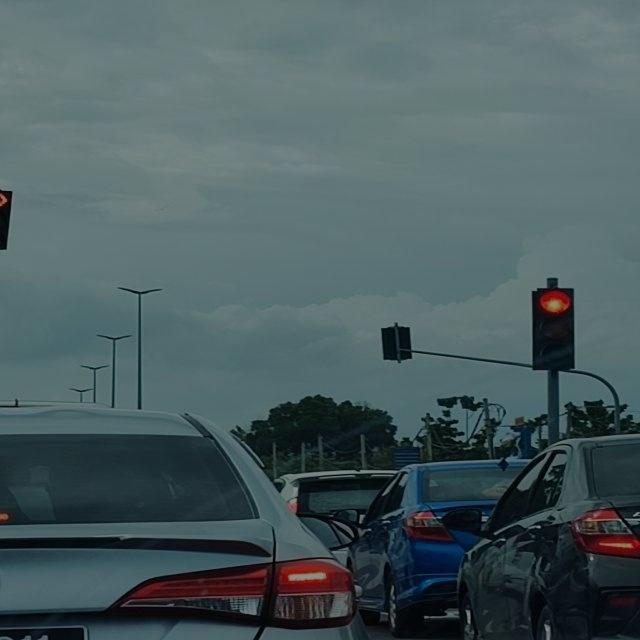Red: (534, 288, 576, 369)
